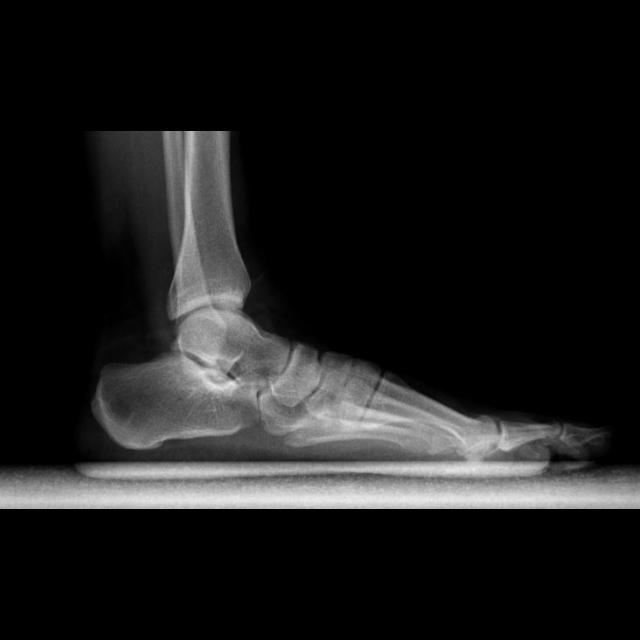a: (94, 353, 264, 452)
b: (272, 343, 319, 408)
c: (363, 379, 499, 455)
